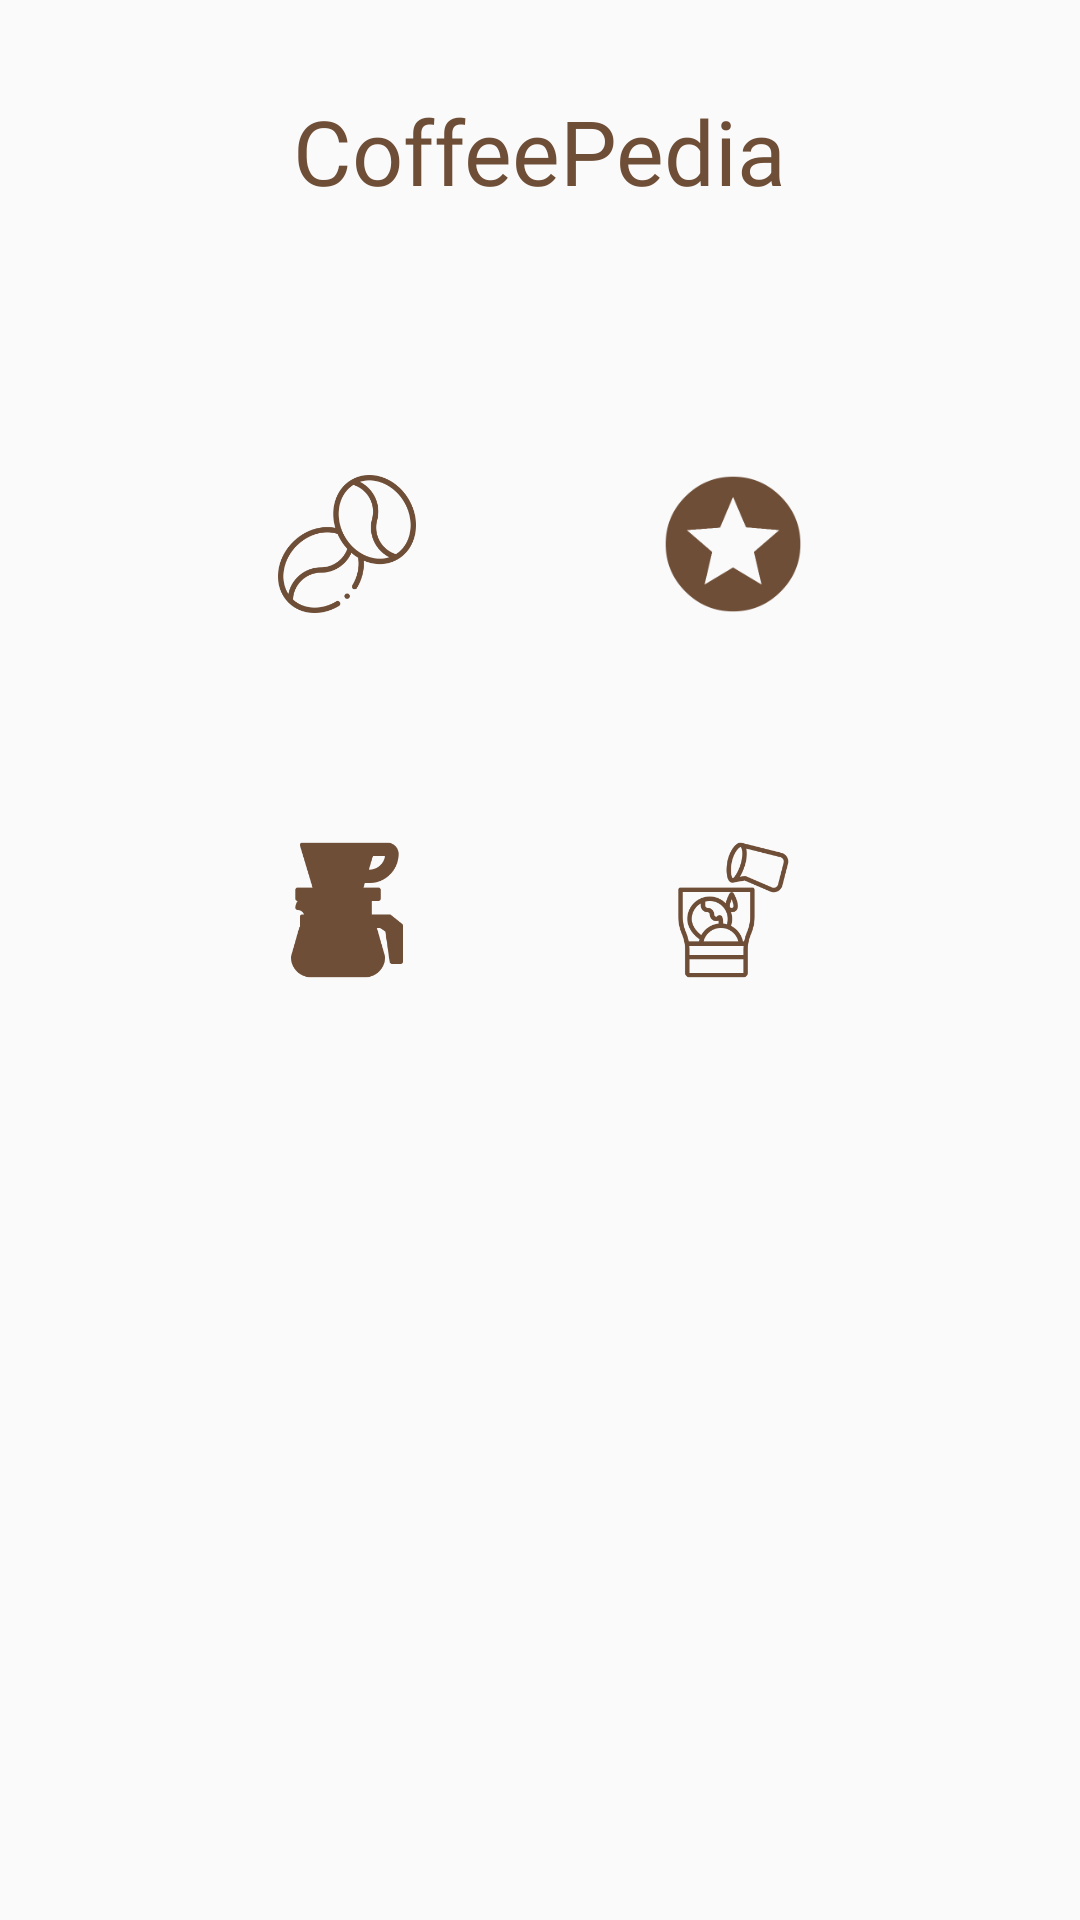

Screen size 1080 x 1920. Icon name, then its box in pixels as (x1, y1, x2, y2):
beans: (278, 475, 416, 613)
methods: (291, 842, 403, 978)
recipes: (678, 842, 789, 978)
reviews: (665, 476, 801, 612)
